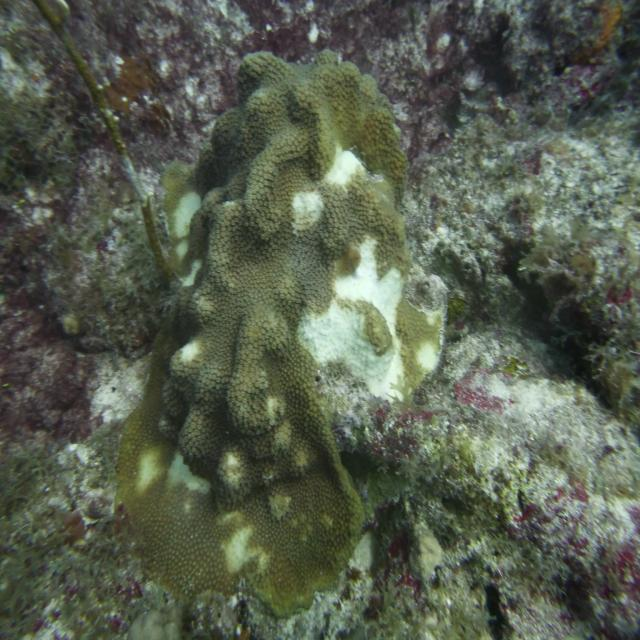Coral: (115, 46, 451, 620)
